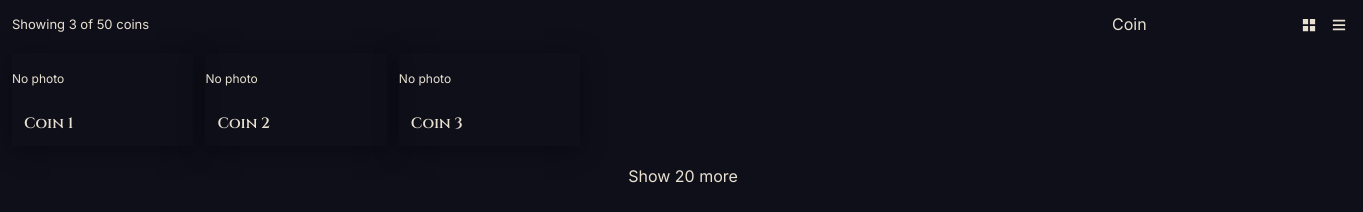
Test: CoinViewer › stops offering more when a page adds nothing new
Click the button with class "more". click: (683, 176)
box: [612,158,754,195]
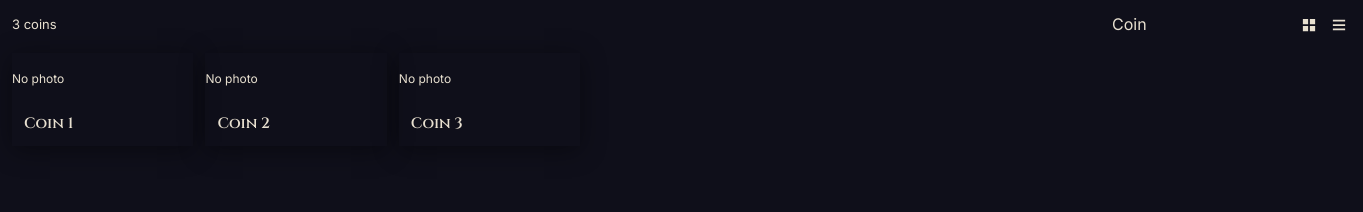
Result: the text with class "count" reads "3 coins" at [12,16,57,32]
